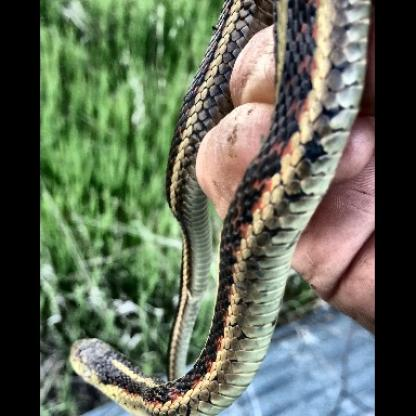Snake: (62, 0, 362, 407)
